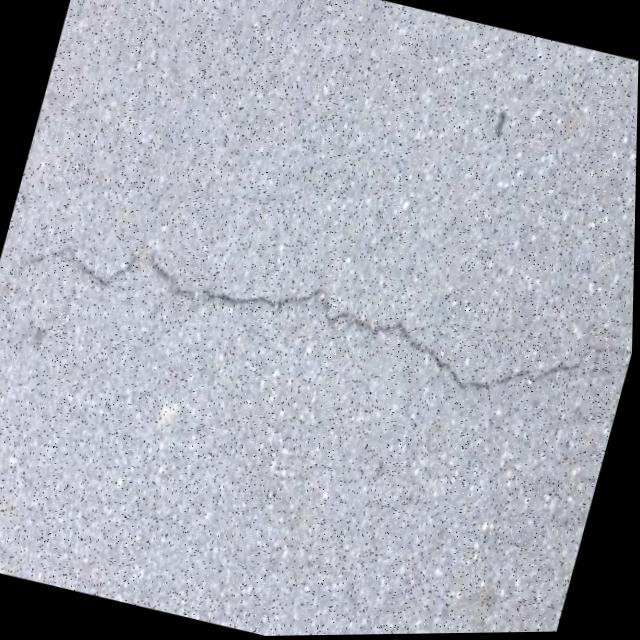Crack: (0, 191, 637, 453)
